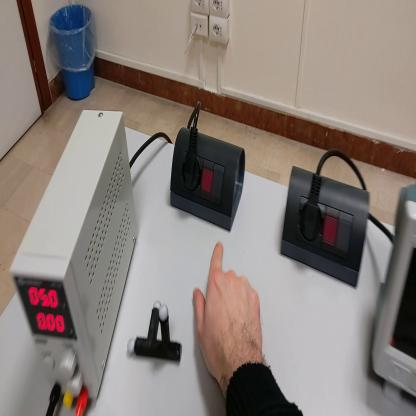hand: (194, 243, 266, 382)
oscilloscope: (372, 181, 416, 414)
power supply: (10, 109, 138, 414)
socket: (283, 160, 374, 291), (170, 126, 247, 233)
